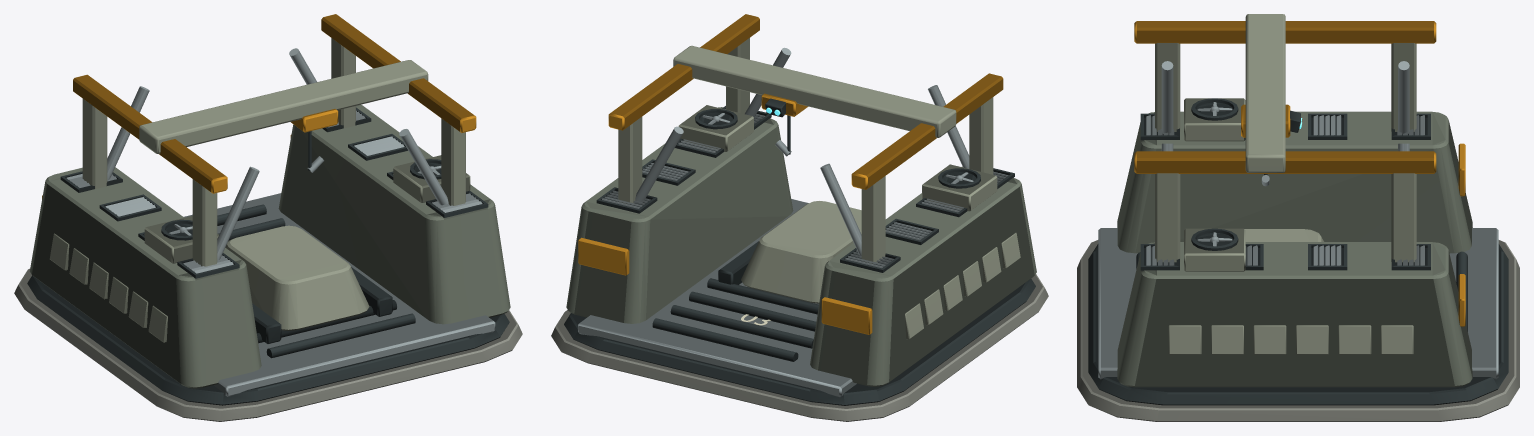
The model's file is VehicleFactory.glb.
3 renders of one model, left to right at view 1: azimuth 30°, elevation 25°; view 2: azimuth 150°, elevation 25°; view 3: azimuth 270°, elevation 25°, orthographic. The views are drawn at different scales.
Visible parts, largest first — view 1: export_VehicleFactory_Footing; view 2: export_VehicleFactory_Footing; view 3: export_VehicleFactory_Footing.
Part boxes in pixels (<box>): export_VehicleFactory_Footing: <box>14,14,522,421</box>; export_VehicleFactory_Footing: <box>551,14,1048,421</box>; export_VehicleFactory_Footing: <box>1077,14,1519,421</box>.
Size of the model in its own units: 6.09 by 3.71 by 6.09.
